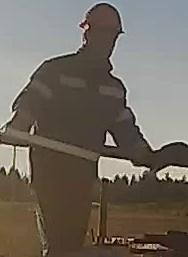helmet: (76, 2, 124, 36)
vest: (28, 56, 124, 186)
